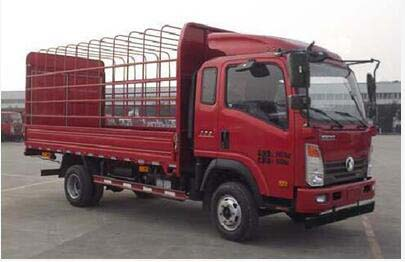smalltruck: (23, 30, 381, 242)
